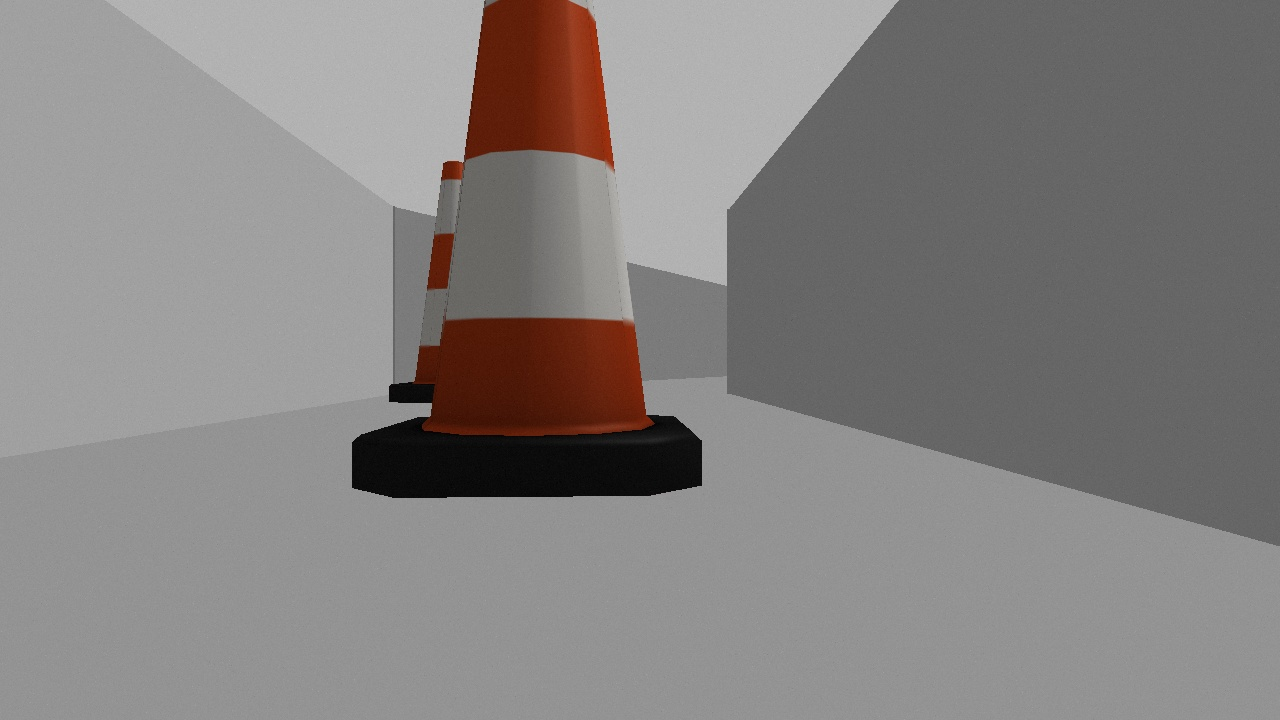barricade: (348, 1, 705, 500), (387, 160, 509, 404)
